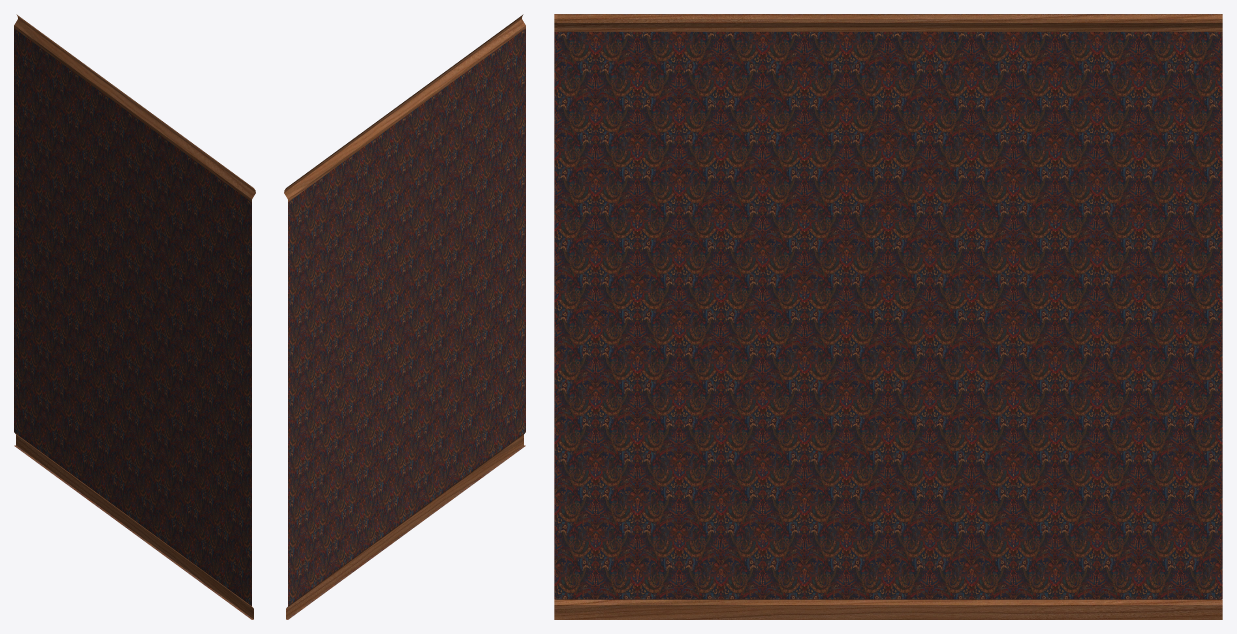
The model's file is flower_power1.dae.
3 renders of one model, left to right at view 1: azimuth 30°, elevation 25°; view 2: azimuth 150°, elevation 25°; view 3: azimuth 270°, elevation 25°, orthographic. The views are drawn at different scales.
Visible parts, largest first — view 1: Plane_002; view 2: Plane_002; view 3: Plane_002.
Boxes of the visible parts, box(x1,y1,x2,y2) form: Plane_002: box(14, 14, 255, 619); Plane_002: box(284, 14, 525, 619); Plane_002: box(554, 14, 1222, 619).
Size of the model in its own units: 0.0388 by 4 by 4.
1 material, 1 textured.
